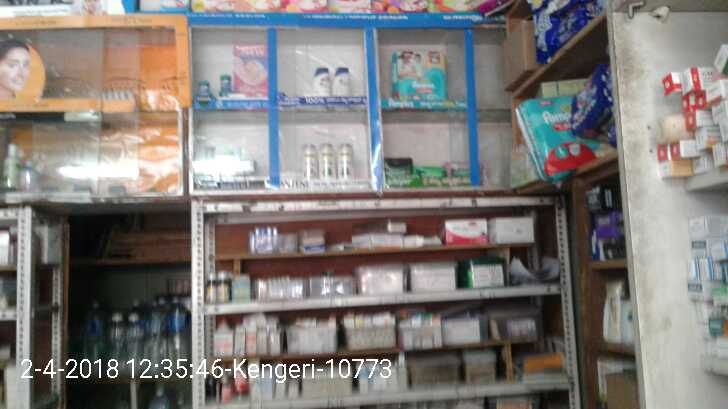vicks: (196, 79, 209, 95), (219, 75, 232, 90)
